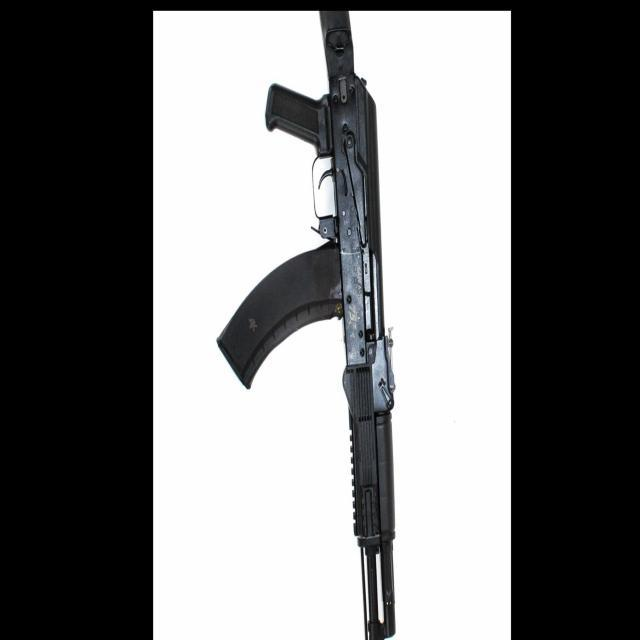weapon: (216, 12, 397, 640)
